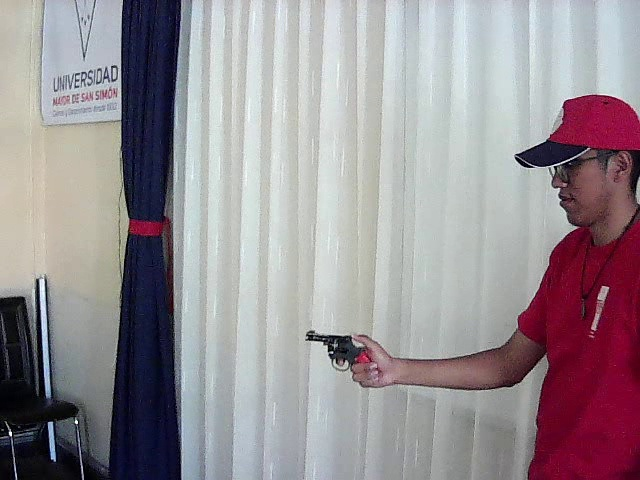pistola: (300, 325, 373, 383)
